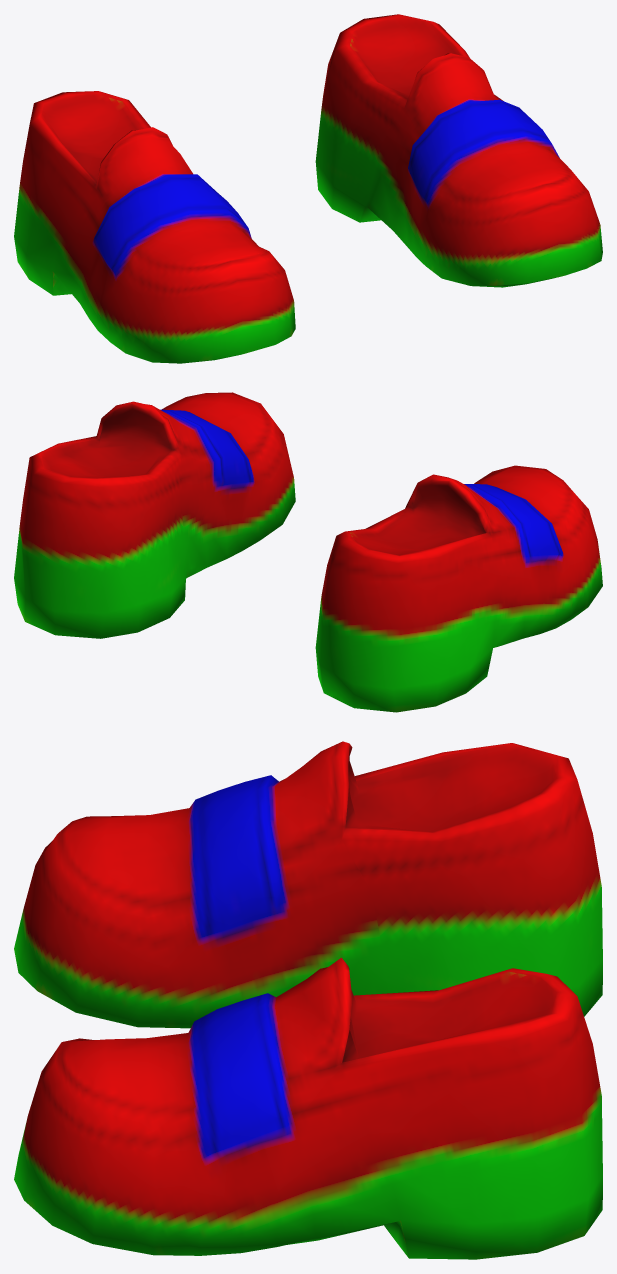
File: BSMC_Outfit_Feet_SchoolShoes.obj
3 views of the same model, one above another, from view 1: azimuth 30°, elevation 25°; view 2: azimuth 150°, elevation 25°; view 3: azimuth 270°, elevation 25° (orthographic). The views are drawn at different scales.
Parts seen in each view (by area): view 1: BSMC_Outfit_Feet_SchoolShoes_0; view 2: BSMC_Outfit_Feet_SchoolShoes_0; view 3: BSMC_Outfit_Feet_SchoolShoes_0.
Boxes of the visible parts, box(x1,y1,x2,y2) form: BSMC_Outfit_Feet_SchoolShoes_0: box(14, 14, 602, 363); BSMC_Outfit_Feet_SchoolShoes_0: box(14, 392, 602, 712); BSMC_Outfit_Feet_SchoolShoes_0: box(14, 741, 602, 1259).
Bounding box in the file's own units: 0.3429 × 0.1189 × 0.2556.
Materials: 1 (1 with a texture image).
